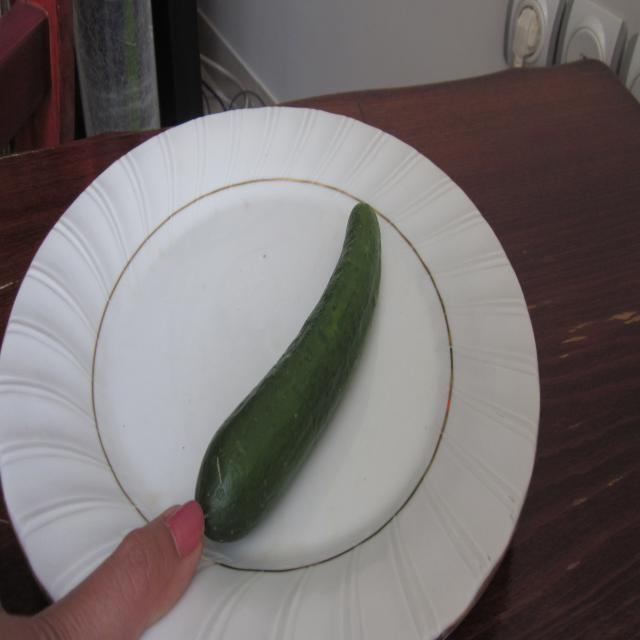cucumber: (193, 190, 400, 550)
